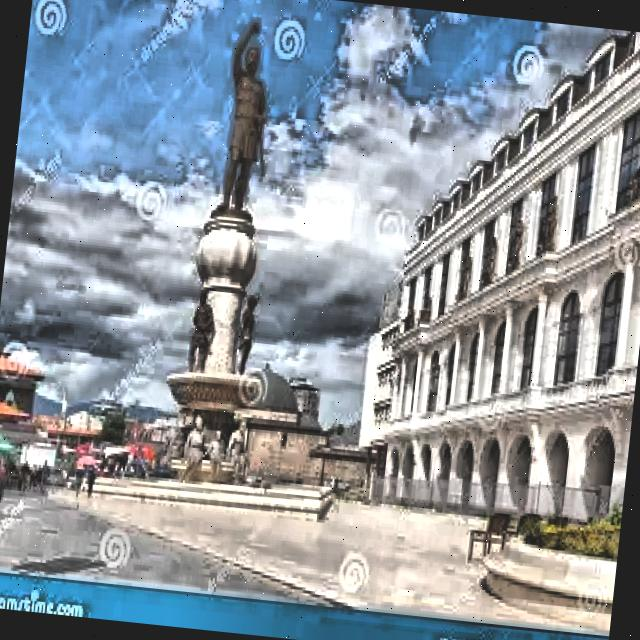Philip II of Macedonia: (156, 13, 304, 495)
